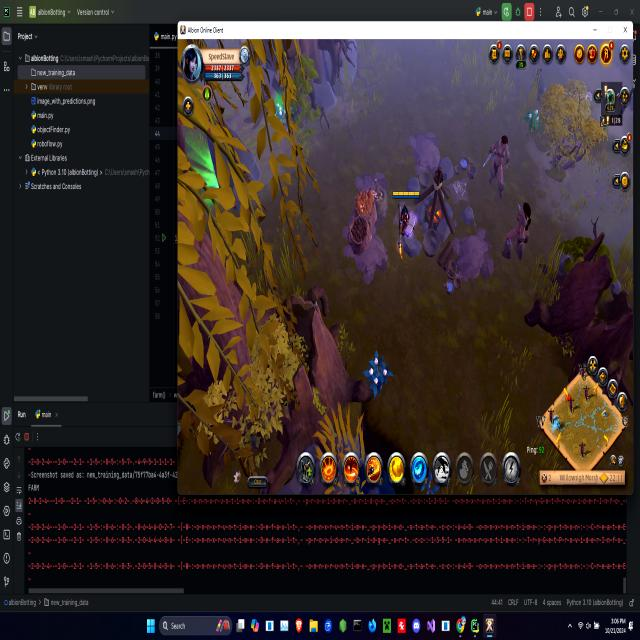hide: (359, 344, 395, 407), (523, 102, 544, 144), (272, 100, 293, 129)
ore: (501, 194, 535, 264), (482, 128, 514, 196), (532, 66, 551, 106)
red: (392, 185, 423, 262)
